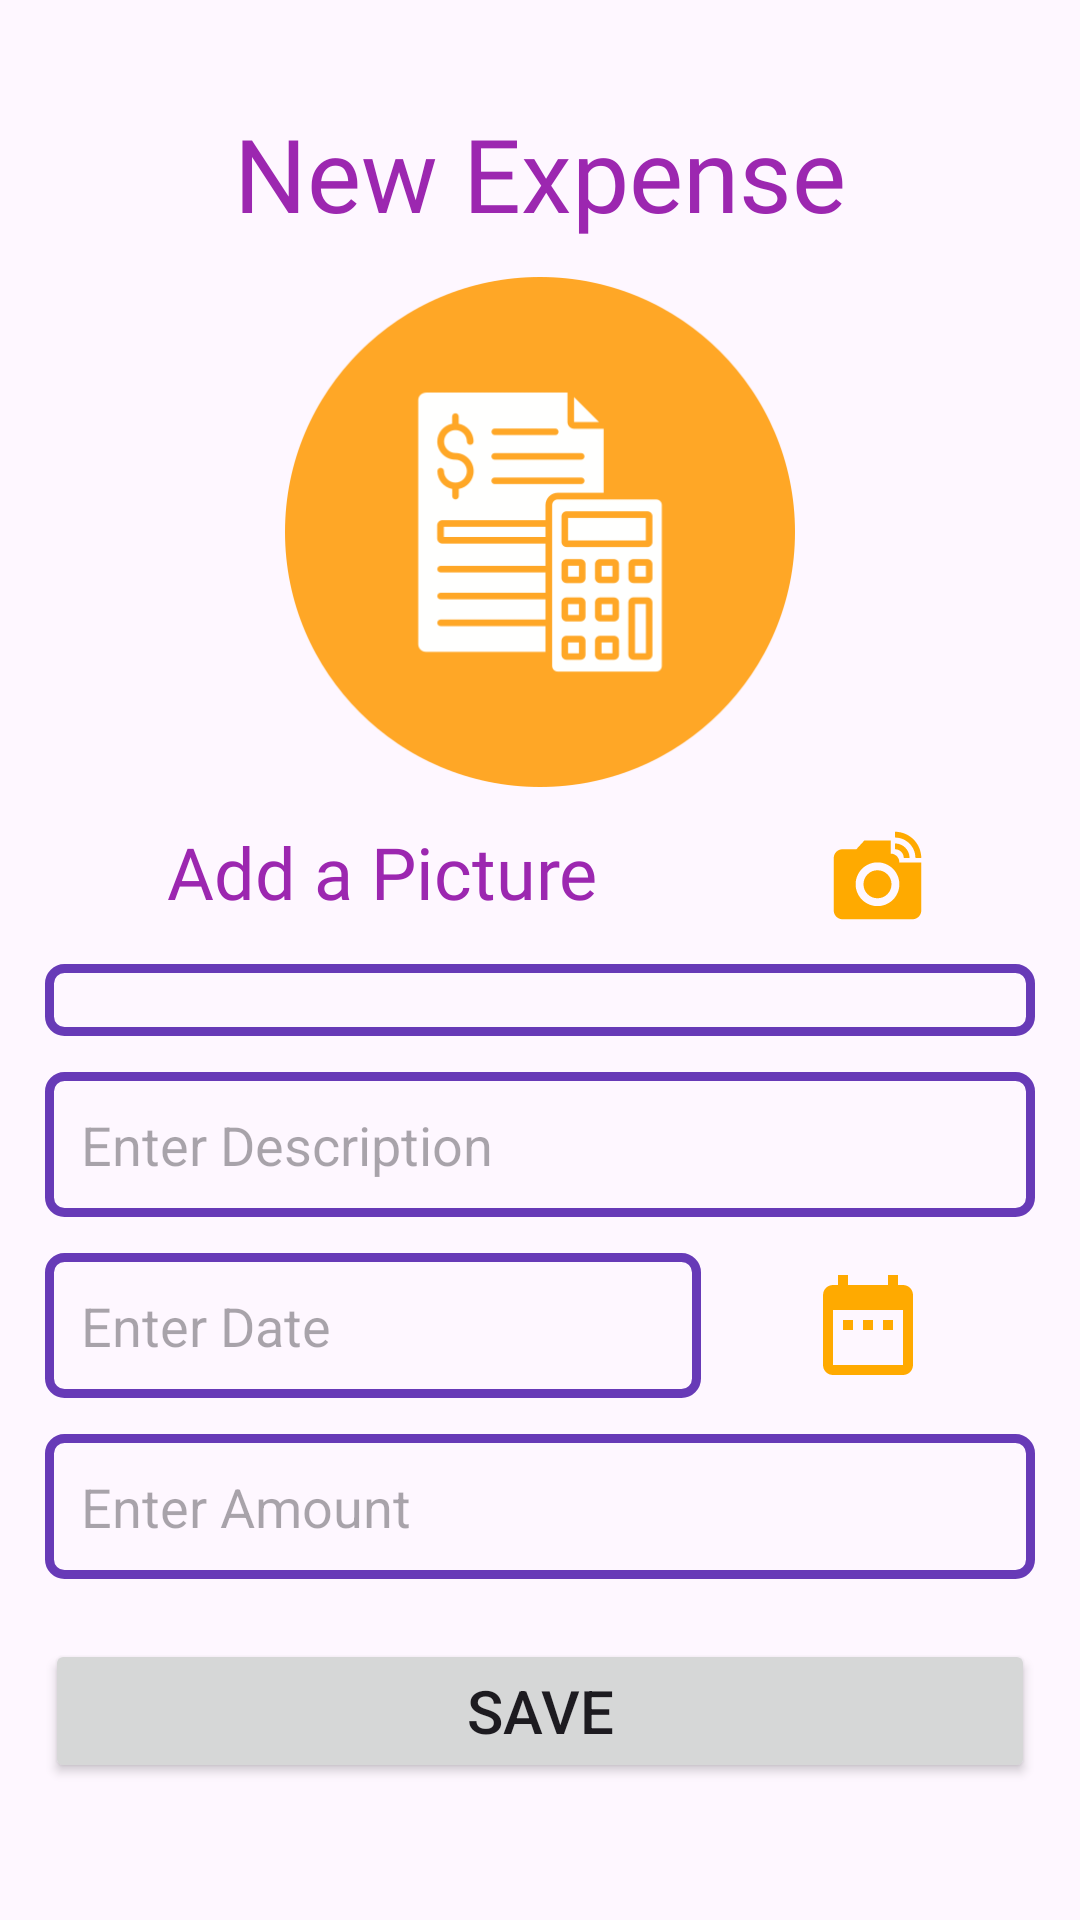

Point at icon controls on the screen. Image size 1080w x 1920h, points as (x,y).
date range: (868,1325)
linked camera: (877,875)
